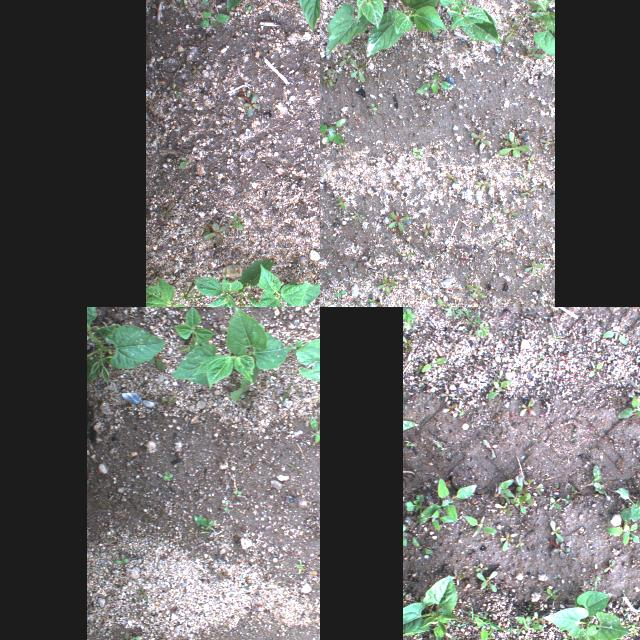crop: (170, 308, 290, 402), (86, 307, 167, 385), (365, 0, 448, 57), (322, 0, 398, 58), (544, 590, 630, 640), (195, 258, 272, 307), (404, 574, 458, 640), (437, 0, 503, 46), (247, 267, 320, 307), (145, 274, 212, 307), (171, 307, 214, 357), (295, 325, 320, 401), (526, 0, 554, 57)
weed: (416, 478, 476, 522), (450, 607, 512, 640), (494, 128, 538, 172), (616, 471, 640, 523), (414, 72, 456, 100), (338, 50, 368, 84), (320, 116, 347, 149), (384, 204, 412, 234), (605, 524, 639, 546), (564, 596, 581, 640), (464, 310, 490, 338), (618, 389, 640, 422), (487, 372, 511, 401), (583, 464, 605, 494), (404, 494, 426, 524), (622, 593, 638, 633), (236, 90, 260, 116), (374, 270, 400, 294), (473, 617, 500, 640), (465, 516, 497, 534), (515, 476, 543, 496), (200, 10, 230, 28), (204, 224, 228, 246), (511, 491, 534, 513), (476, 570, 498, 592), (468, 127, 492, 147), (432, 511, 456, 531), (193, 514, 215, 534), (524, 258, 548, 276), (474, 170, 494, 190), (420, 358, 448, 372), (514, 616, 542, 630), (320, 67, 336, 91), (498, 479, 514, 503), (528, 40, 546, 61), (602, 331, 628, 345), (519, 181, 539, 199), (500, 205, 520, 223), (464, 282, 484, 300), (412, 536, 432, 554), (550, 520, 564, 544), (504, 21, 518, 43), (310, 417, 320, 447), (402, 307, 415, 330), (409, 142, 425, 160), (416, 222, 434, 238), (148, 353, 164, 371), (482, 440, 498, 458), (552, 542, 570, 558), (499, 532, 513, 552), (348, 209, 364, 225), (588, 362, 604, 378), (282, 342, 302, 354), (540, 134, 554, 150), (519, 400, 533, 416), (544, 588, 560, 602), (440, 388, 456, 402), (432, 438, 444, 456), (334, 195, 346, 212), (434, 296, 452, 307), (333, 286, 347, 300), (474, 562, 488, 576), (168, 82, 180, 98), (231, 214, 243, 230), (442, 402, 458, 414), (444, 307, 461, 318), (494, 504, 512, 514), (160, 207, 172, 221), (458, 254, 472, 266), (548, 498, 562, 510), (138, 586, 148, 602), (221, 501, 233, 513), (603, 560, 615, 572), (515, 534, 523, 552), (178, 156, 188, 170), (366, 296, 380, 306), (402, 524, 408, 546), (403, 336, 411, 352), (190, 64, 202, 74), (403, 420, 415, 430), (416, 376, 428, 386), (118, 633, 135, 640), (369, 101, 377, 115), (163, 471, 173, 482), (489, 212, 498, 224), (560, 494, 570, 504), (200, 0, 211, 8), (533, 612, 541, 622), (594, 574, 600, 586), (244, 5, 252, 13), (238, 86, 246, 94), (404, 442, 414, 448), (514, 626, 520, 636), (200, 223, 208, 230), (114, 560, 128, 564), (544, 244, 550, 253), (132, 636, 139, 640)
